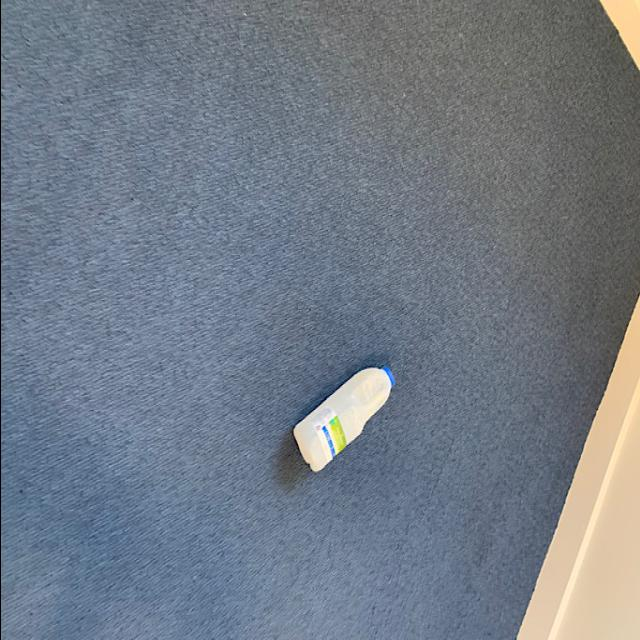litter: (287, 365, 397, 474)
